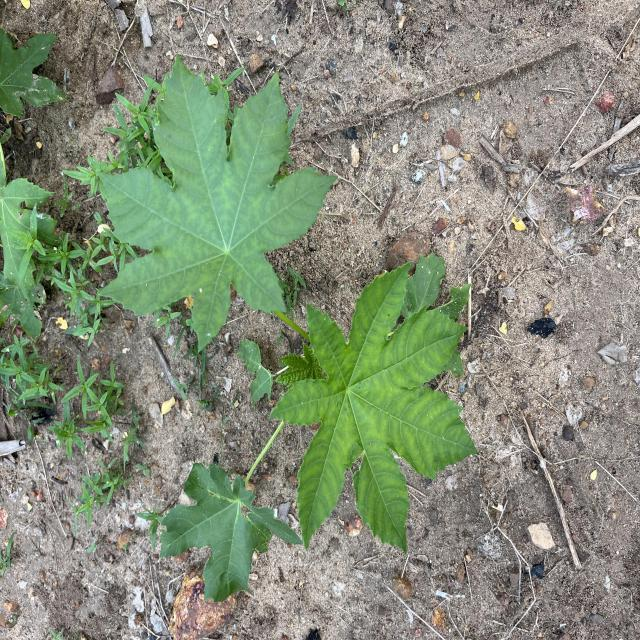Ricinus communis linn: (92, 49, 342, 358), (266, 257, 480, 558)
